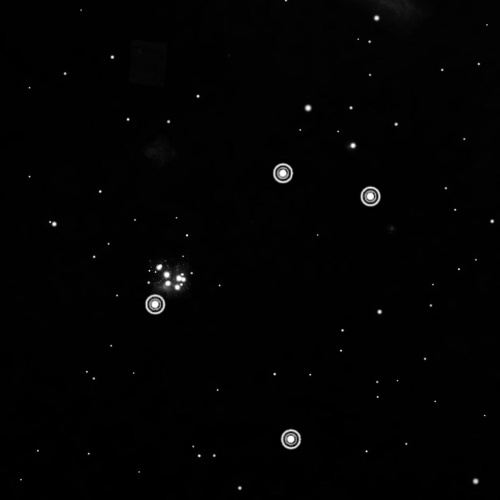coma_berenices: (142, 159, 386, 455)
